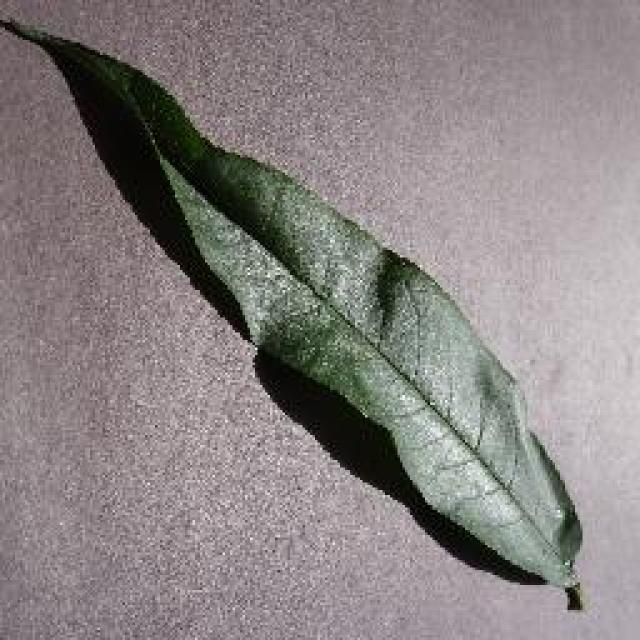Pea_healthy: (155, 108, 545, 518)
